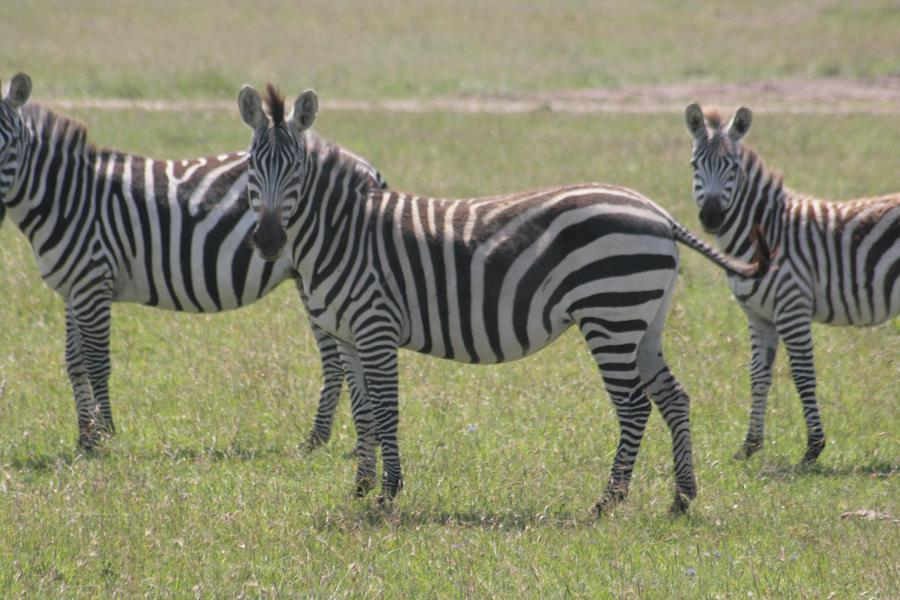zebra_plains: (313, 175, 662, 351)
